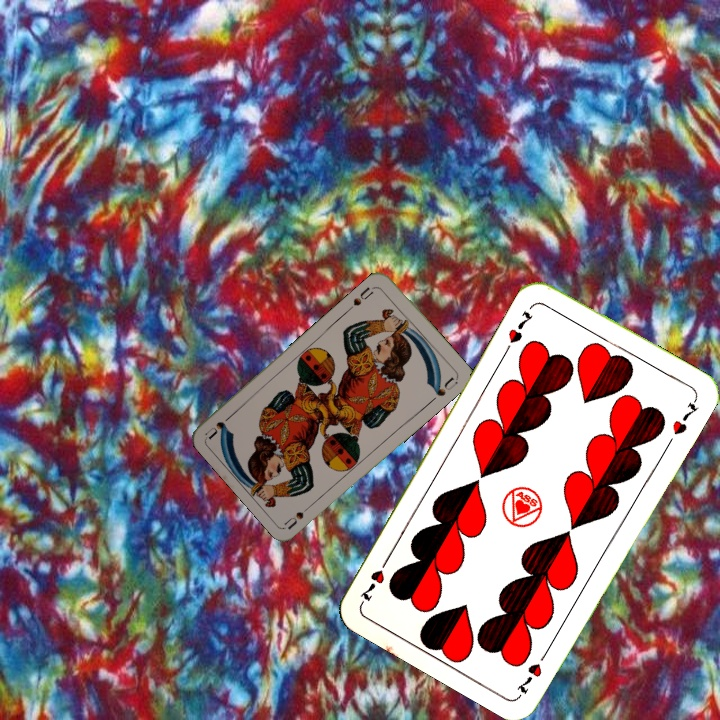H7: (512, 645, 552, 698), (504, 307, 536, 346)
SU: (281, 498, 317, 531), (349, 282, 379, 308)
